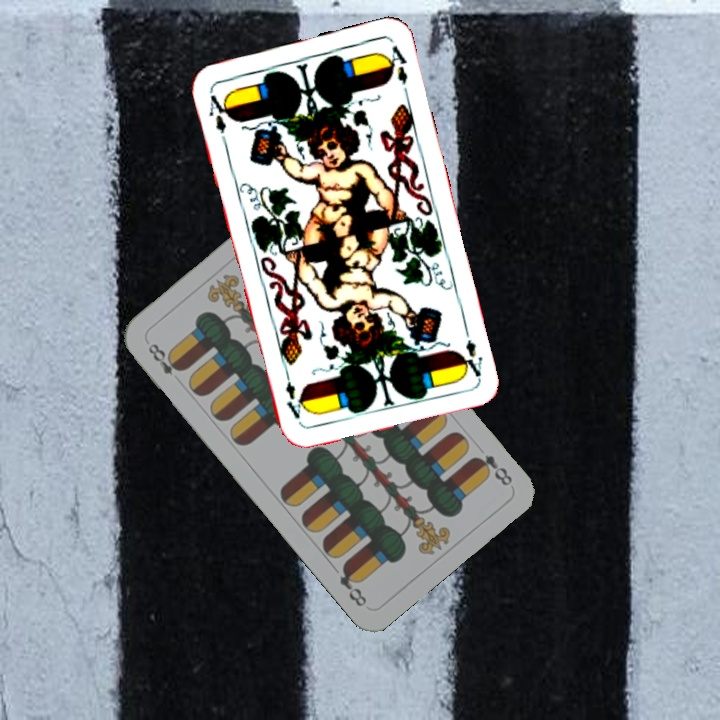E8: (468, 450, 515, 489), (143, 338, 187, 379)
EA: (455, 321, 485, 380), (205, 86, 233, 145)
